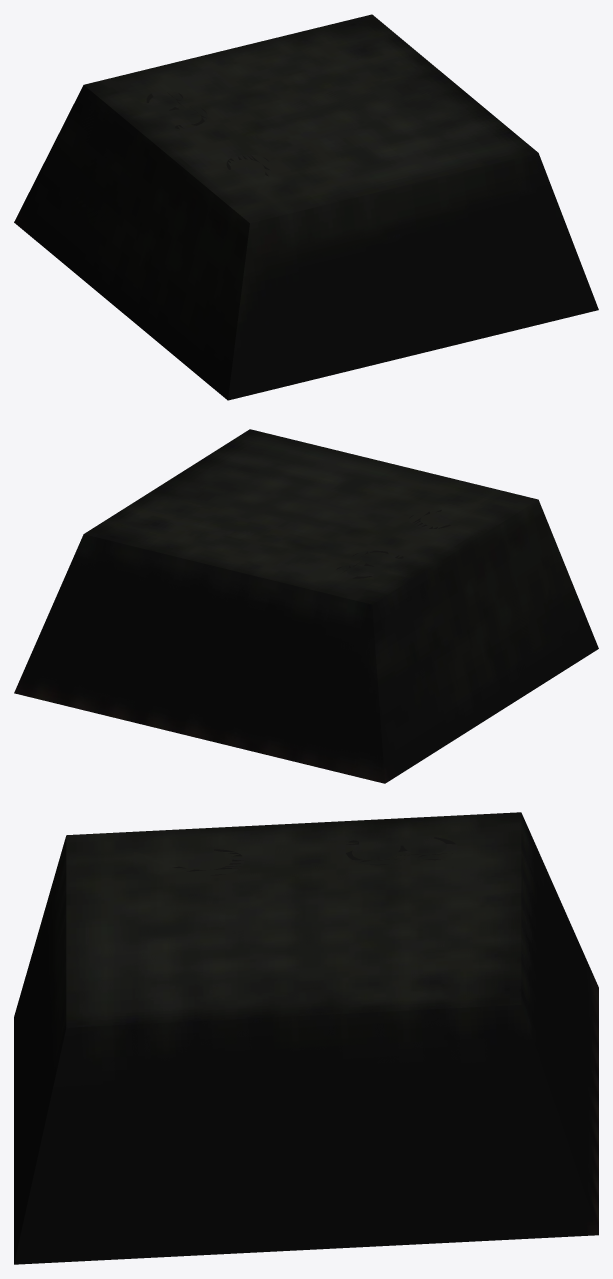
The model's file is link_87__key-93.glb.
3 views of the same model, one above another, from view 1: azimuth 30°, elevation 25°; view 2: azimuth 150°, elevation 25°; view 3: azimuth 270°, elevation 25° (orthographic). The views are drawn at different scales.
Parts seen in each view (by area): view 1: geometry_0; view 2: geometry_0; view 3: geometry_0.
Boxes of the visible parts, x1,y1,x2,y2 form: geometry_0: (14, 14, 598, 400); geometry_0: (14, 429, 598, 783); geometry_0: (14, 812, 598, 1264).
Size of the model in its own units: 0.0719 by 0.0315 by 0.0718.
Materials: 1 (1 with a texture image).
